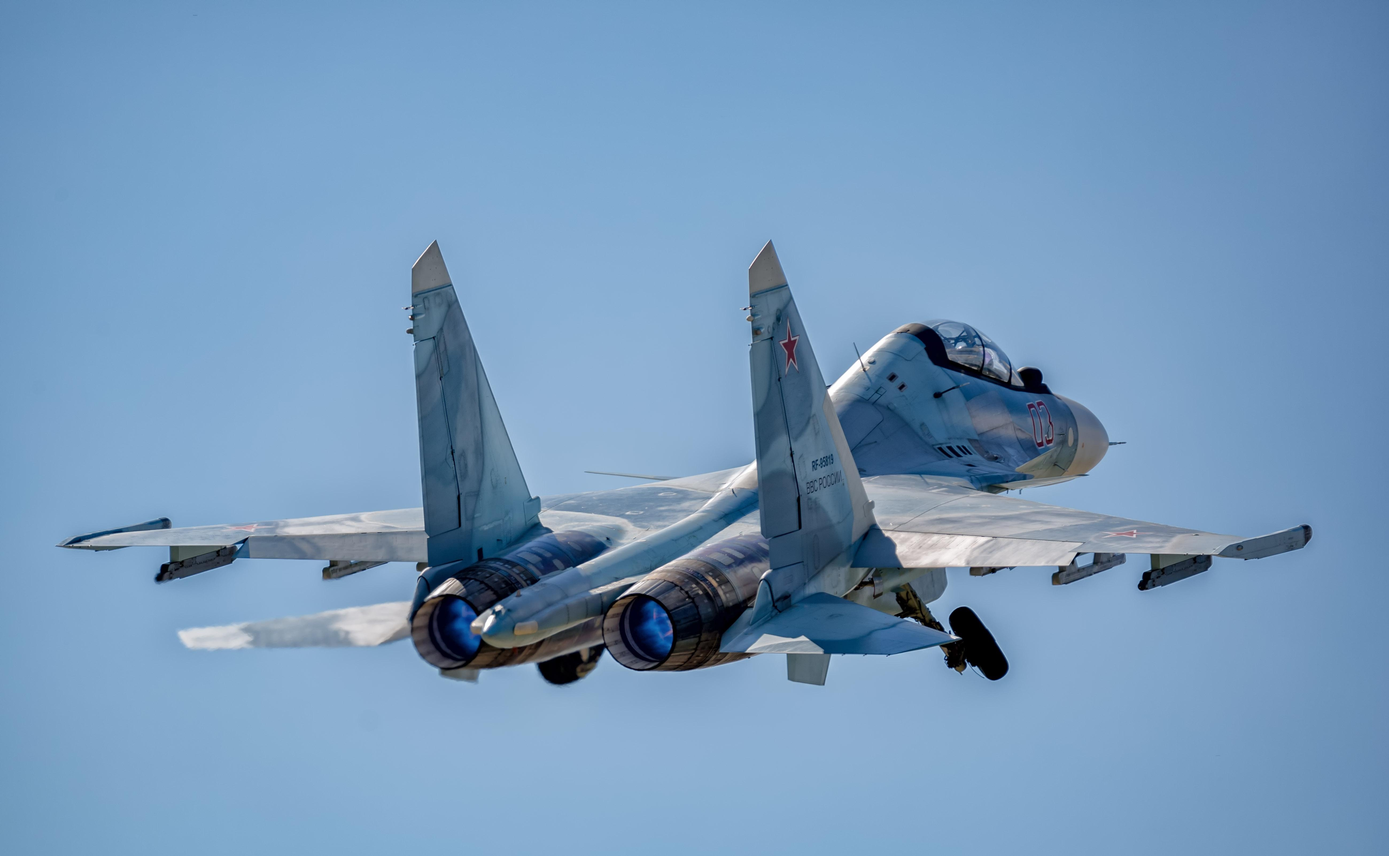aircraft: (45, 238, 1269, 689), (421, 238, 1320, 690)
